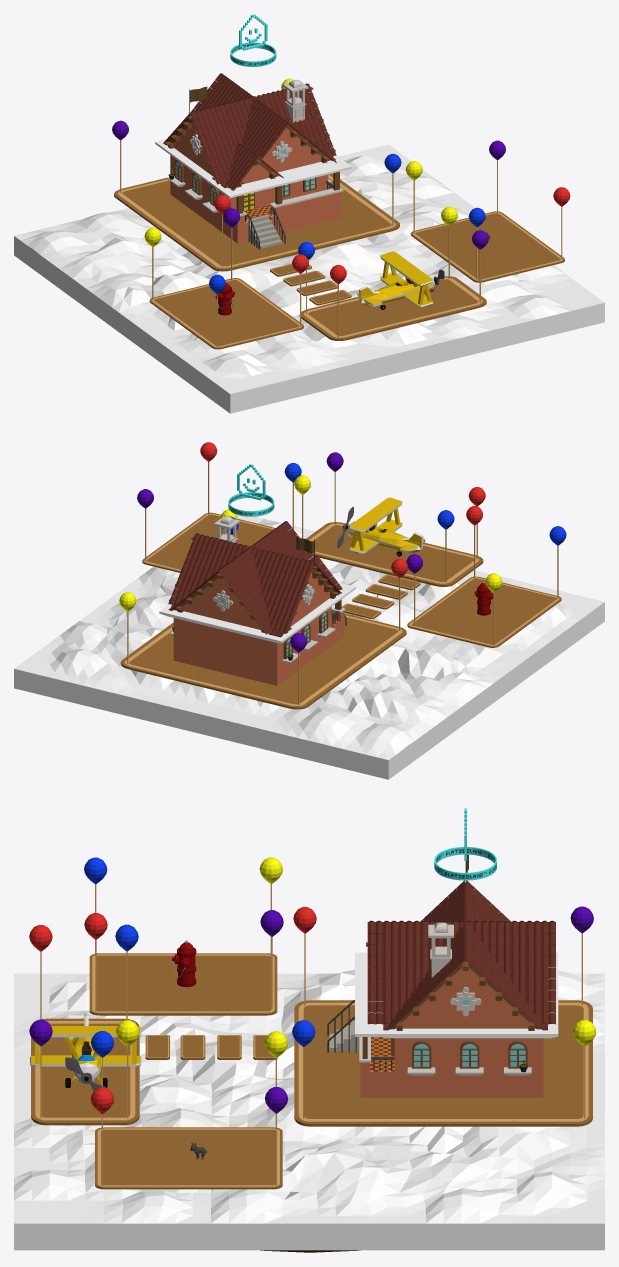
3 views of the same model, one above another, from view 1: azimuth 30°, elevation 25°; view 2: azimuth 150°, elevation 25°; view 3: azimuth 270°, elevation 25° (orthographic). The views are drawn at different scales.
Parts seen in each view (by area): view 1: Cube.013, Cube.1141, VEHICLES_AIRPLANE, TYPE_PREMIUM; view 2: Cube.013, Cube.1141, VEHICLES_AIRPLANE, TYPE_PREMIUM, OBJRANDOM_FIRE_HYDRANT; view 3: Cube.013, Cube.1141, VEHICLES_AIRPLANE, TYPE_PREMIUM, OBJRANDOM_FIRE_HYDRANT.
Boxes of the visible parts, x1=… form: Cube.013: x1=14, y1=78, x2=604, y2=413; Cube.1141: x1=155, y1=73, x2=351, y2=249; VEHICLES_AIRPLANE: x1=356, y1=251, x2=444, y2=309; TYPE_PREMIUM: x1=230, y1=14, x2=276, y2=66; Cube.013: x1=14, y1=442, x2=604, y2=779; Cube.1141: x1=159, y1=516, x2=355, y2=685; VEHICLES_AIRPLANE: x1=337, y1=497, x2=425, y2=556; TYPE_PREMIUM: x1=228, y1=464, x2=274, y2=516; OBJRANDOM_FIRE_HYDRANT: x1=474, y1=581, x2=493, y2=615; Cube.013: x1=14, y1=857, x2=604, y2=1250; Cube.1141: x1=327, y1=854, x2=558, y2=1097; VEHICLES_AIRPLANE: x1=30, y1=1013, x2=141, y2=1091; TYPE_PREMIUM: x1=434, y1=808, x2=496, y2=880; OBJRANDOM_FIRE_HYDRANT: x1=172, y1=940, x2=196, y2=987.
Bounding box in the file's own units: 4000 × 2509 × 4000.
48 materials, 2 textured.
